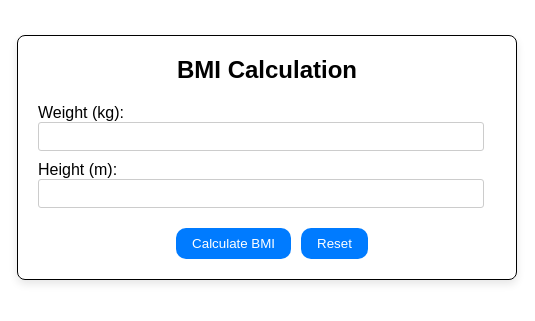
Scenario: BMI Calculation › resets BMI calculation
Type "70" into the number field labelled "Weight (kg):" at (261, 136), box left=38, top=122, right=484, bottom=150
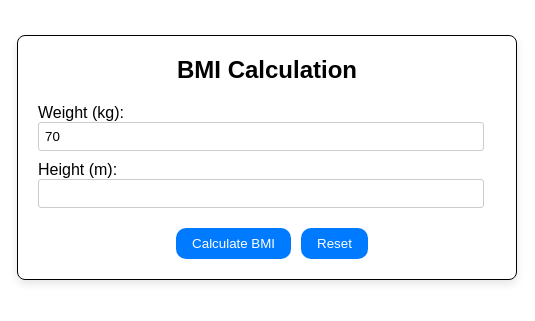
Type "1.75" into the number field labelled "Height (m):" at (261, 193), box left=38, top=178, right=484, bottom=208
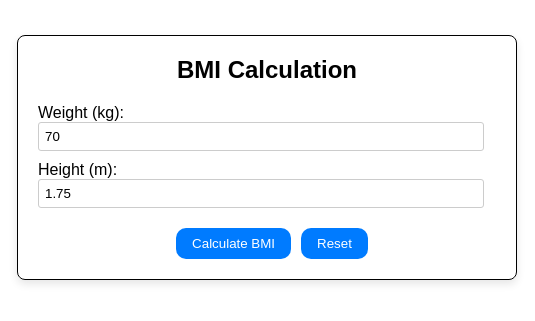
Click the button "Calculate BMI" at (234, 243), box left=176, top=228, right=291, bottom=258
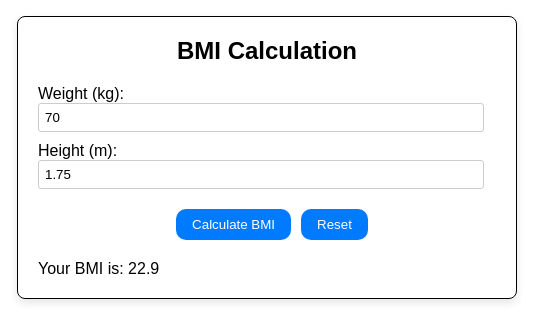
Expected: the text "Your BMI is: 22.9" is shown, left=38, top=260, right=159, bottom=276
Click the button "Reset" at (334, 224), box left=301, top=208, right=368, bottom=240
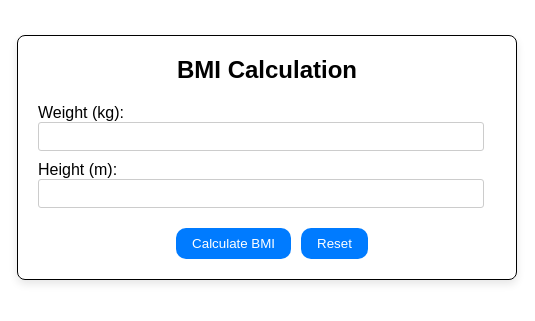
Expected: the number field labelled "Weight (kg):" is empty, left=38, top=122, right=484, bottom=150
Expected: the number field labelled "Height (m):" is empty, left=38, top=178, right=484, bottom=208
Expected: the text "Your BMI is: 22.9" is gone
